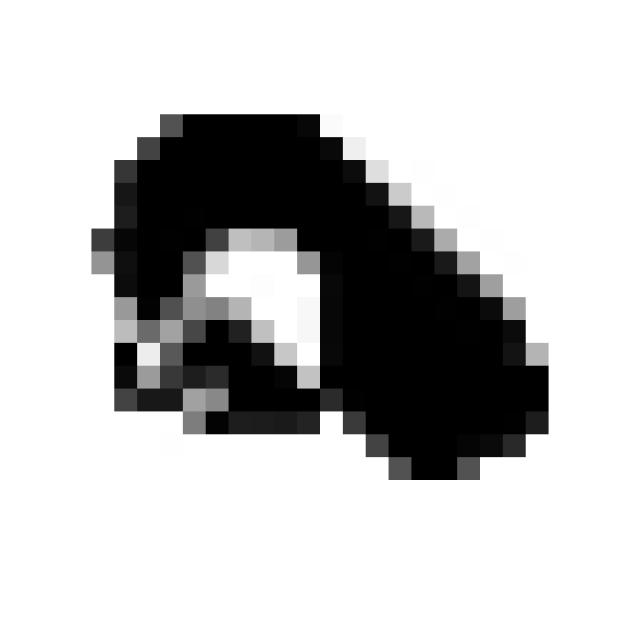0 -zero-: (73, 89, 563, 500)
